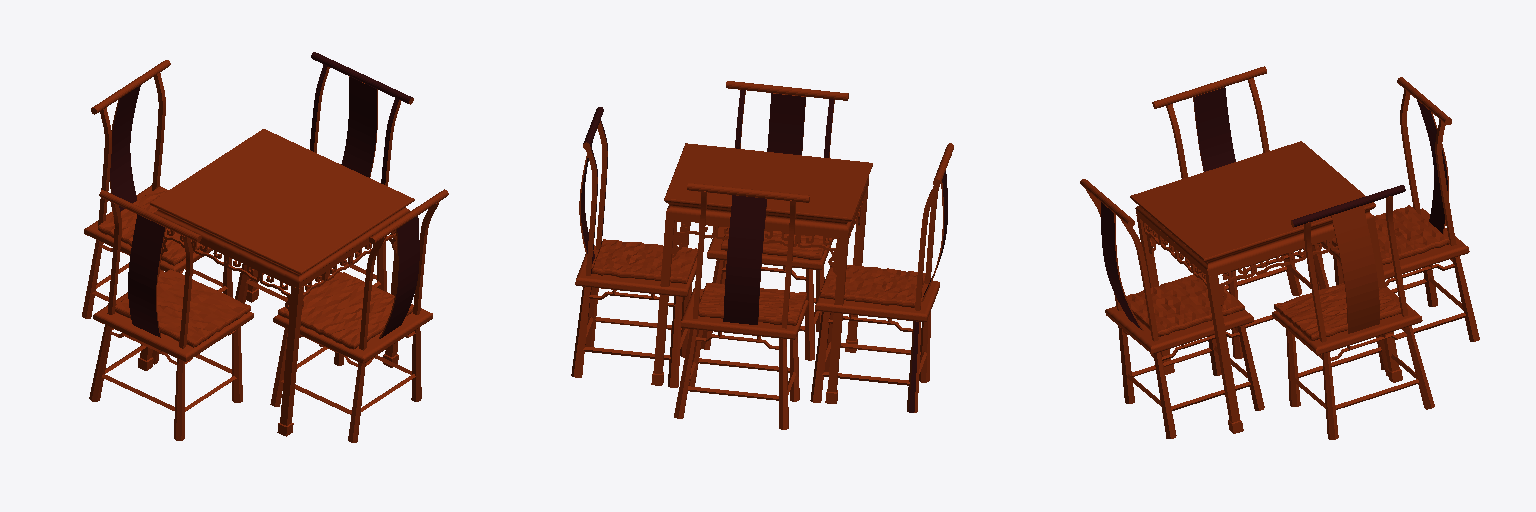
Rendered from canzhuo.obj.
The picture shows the model from 3 angles: view 1: azimuth 30°, elevation 25°; view 2: azimuth 150°, elevation 25°; view 3: azimuth 270°, elevation 25°; orthographic projection.
Parts seen in each view (by area): view 1: Object.1, Object.3, Object.2; view 2: Object.1, Object.2, Object.3; view 3: Object.1, Object.3, Object.2.
Part boxes in pixels (x1,y1,x2,y2): Object.1: (89, 52, 414, 440); Object.3: (270, 189, 448, 442); Object.2: (82, 60, 232, 354); Object.1: (571, 107, 953, 412); Object.2: (674, 183, 809, 429); Object.3: (701, 81, 848, 360); Object.1: (1130, 66, 1434, 439); Object.3: (1080, 179, 1264, 438); Object.2: (1321, 77, 1479, 369).
Size of the model in its own units: 10991 by 8653 by 11558.